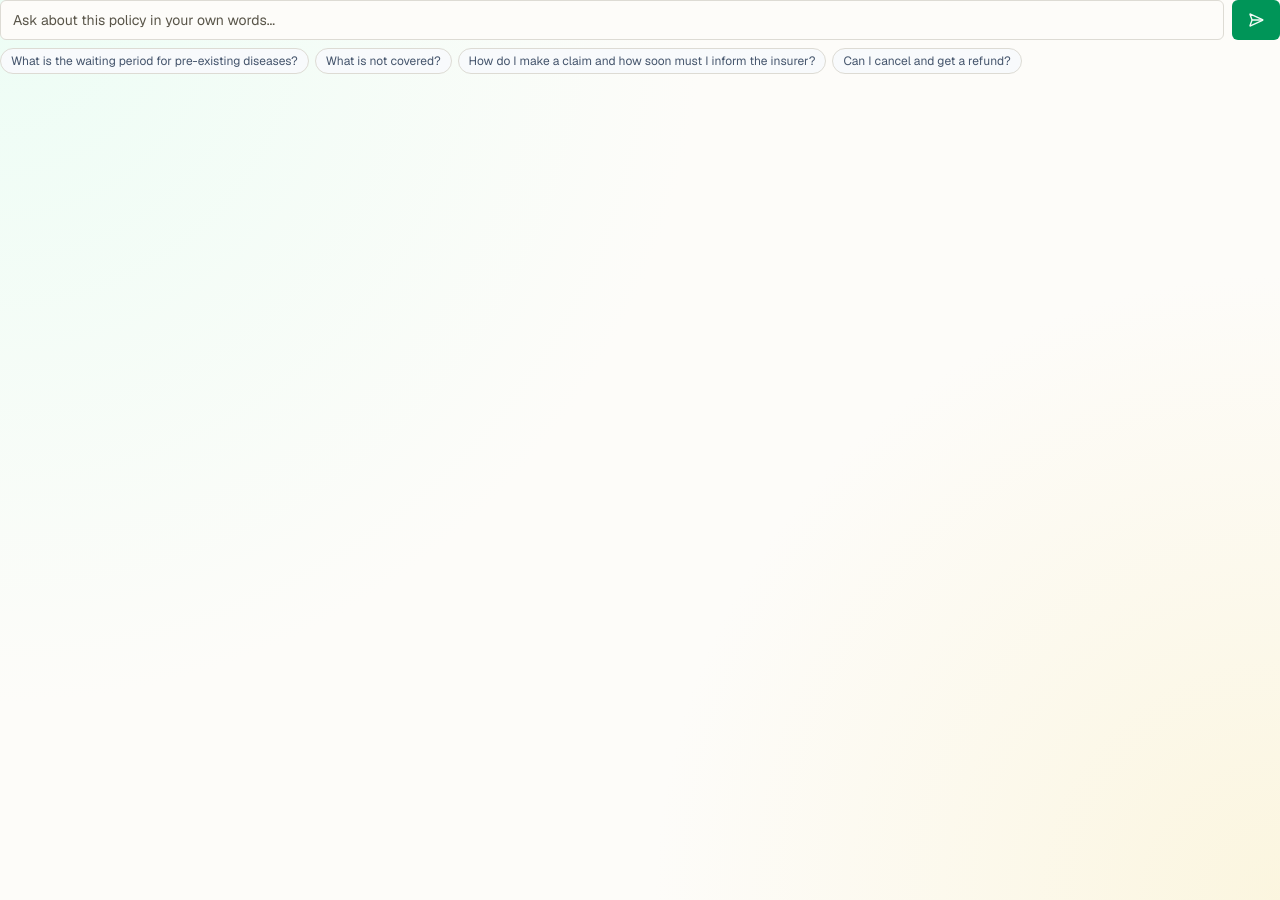
policy Q&A interface › separates stated terms from interpretation and shows sources, gaps, conflicts and the disclaimer
In the field with placeholder "Ask about this policy in your own words...": x=612, y=20 [0,0,1224,40], type "How long is the waiting period?"
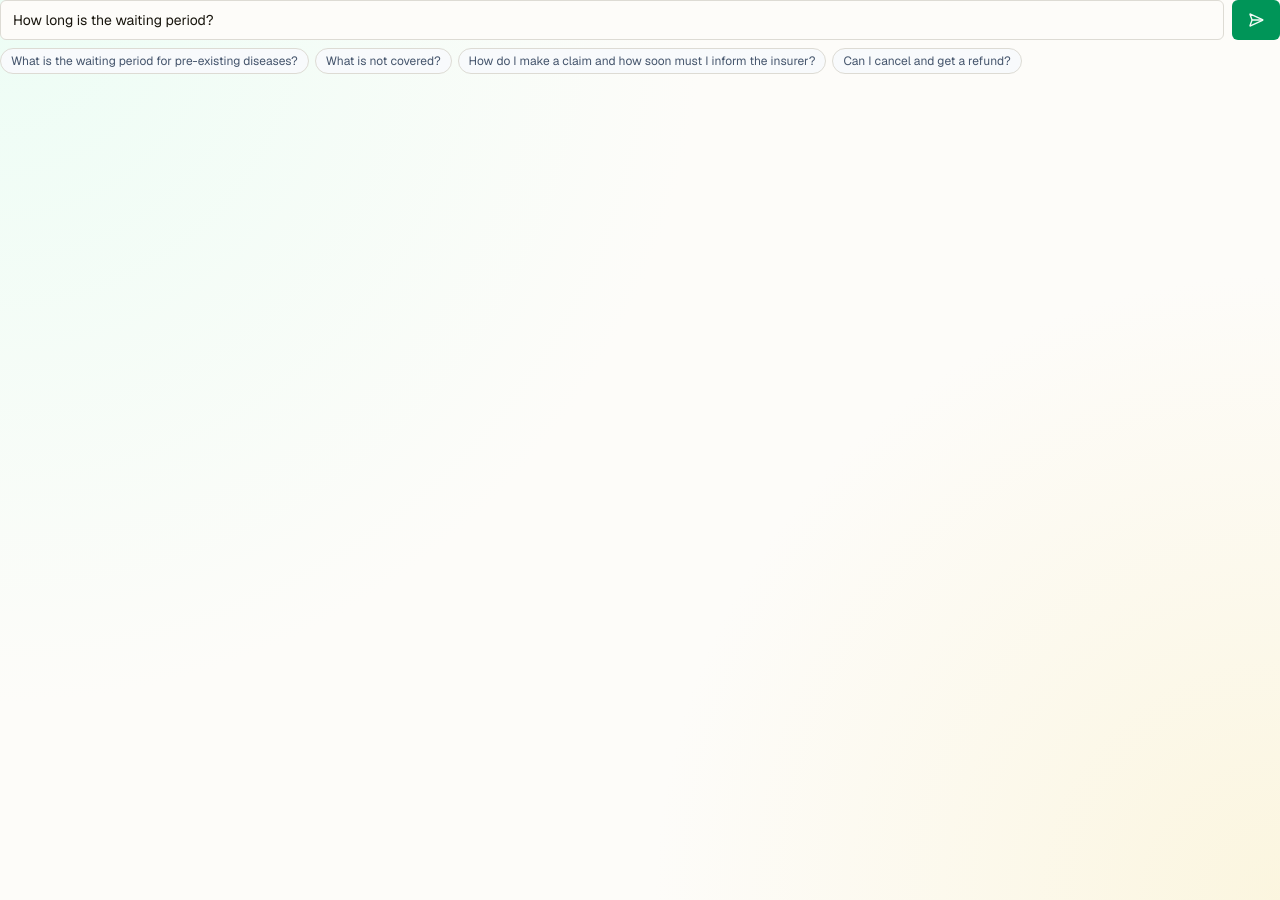
Click the button named "Ask": x=1256, y=20 [1232,0,1279,40]
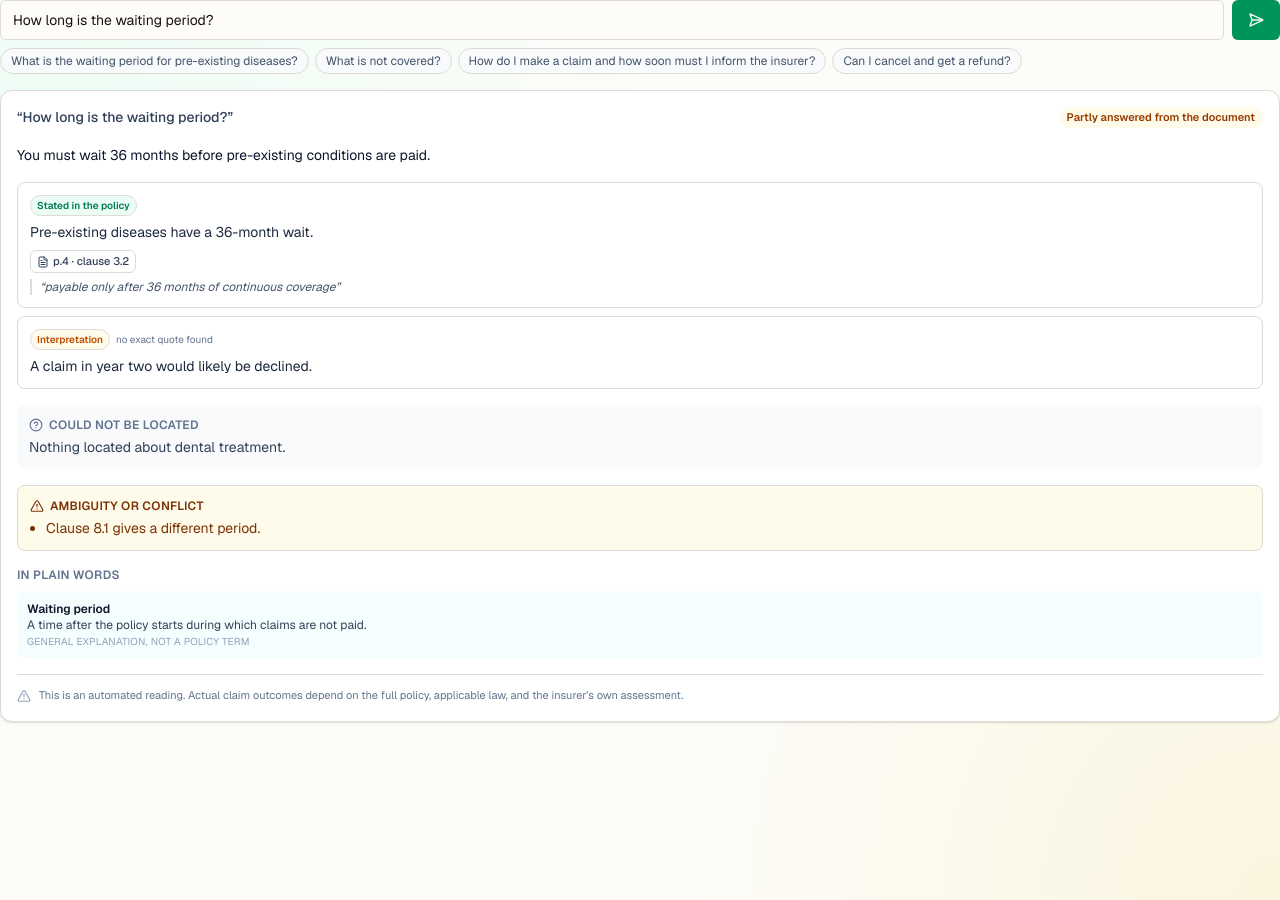
Expected: the text "Partly answered from the document" is shown, [1059,107,1263,128]
Expected: the text "Stated in the policy" is shown, [30,195,137,216]
Expected: the text "Interpretation" is shown, [30,328,110,350]
